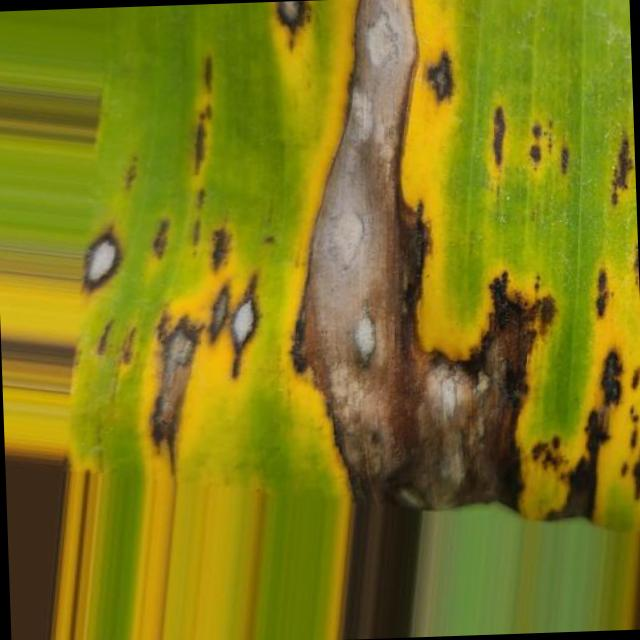Banana_Yellow_Sigatoka: (274, 0, 619, 519), (70, 223, 278, 422)
